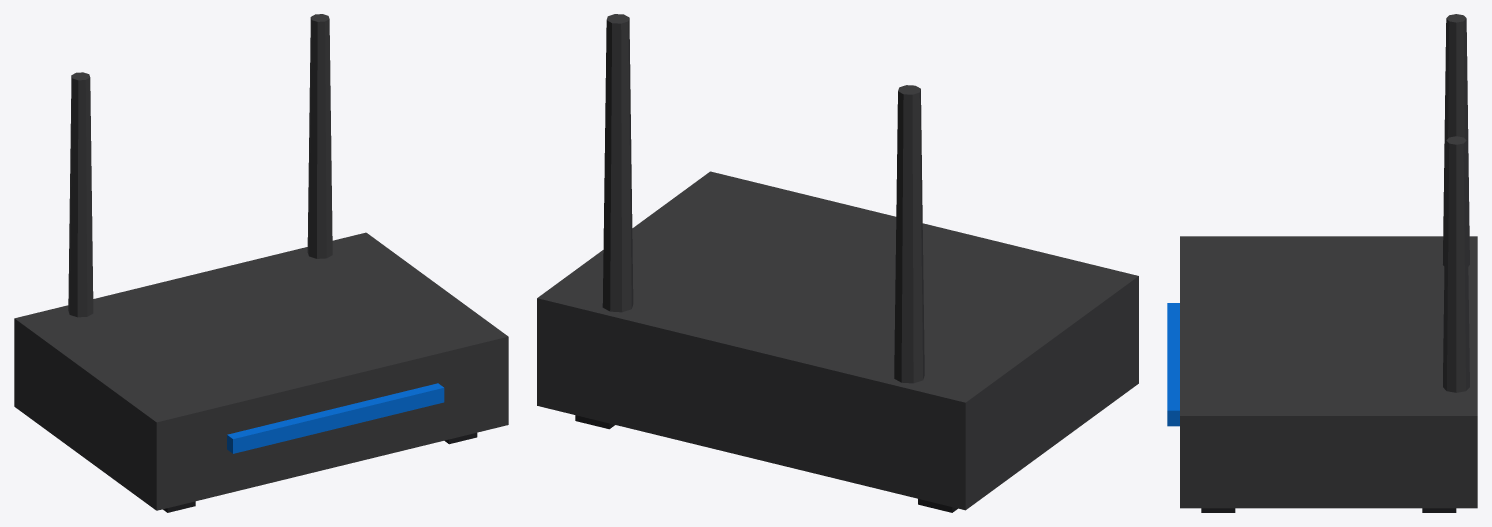
Rendered from router.glb.
The picture shows the model from 3 angles, left to right: view 1: azimuth 30°, elevation 25°; view 2: azimuth 150°, elevation 25°; view 3: azimuth 270°, elevation 25°; orthographic projection. The views are drawn at different scales.
Visible parts, largest first — view 1: body, aerial_0, aerial_1, leds; view 2: body, aerial_0, aerial_1; view 3: body, aerial_1, aerial_0, leds.
Part boxes in pixels (<box>): body: <box>14,232,508,510</box>; aerial_0: <box>68,72,93,317</box>; aerial_1: <box>307,14,332,258</box>; leds: <box>227,383,444,453</box>; body: <box>537,171,1138,510</box>; aerial_0: <box>894,85,924,383</box>; aerial_1: <box>602,14,633,312</box>; body: <box>1180,236,1477,508</box>; aerial_1: <box>1443,136,1469,392</box>; aerial_0: <box>1443,14,1469,266</box>; leds: <box>1167,303,1179,426</box>.
Bounding box in the file's own units: 0.5 × 0.46 × 0.365.
